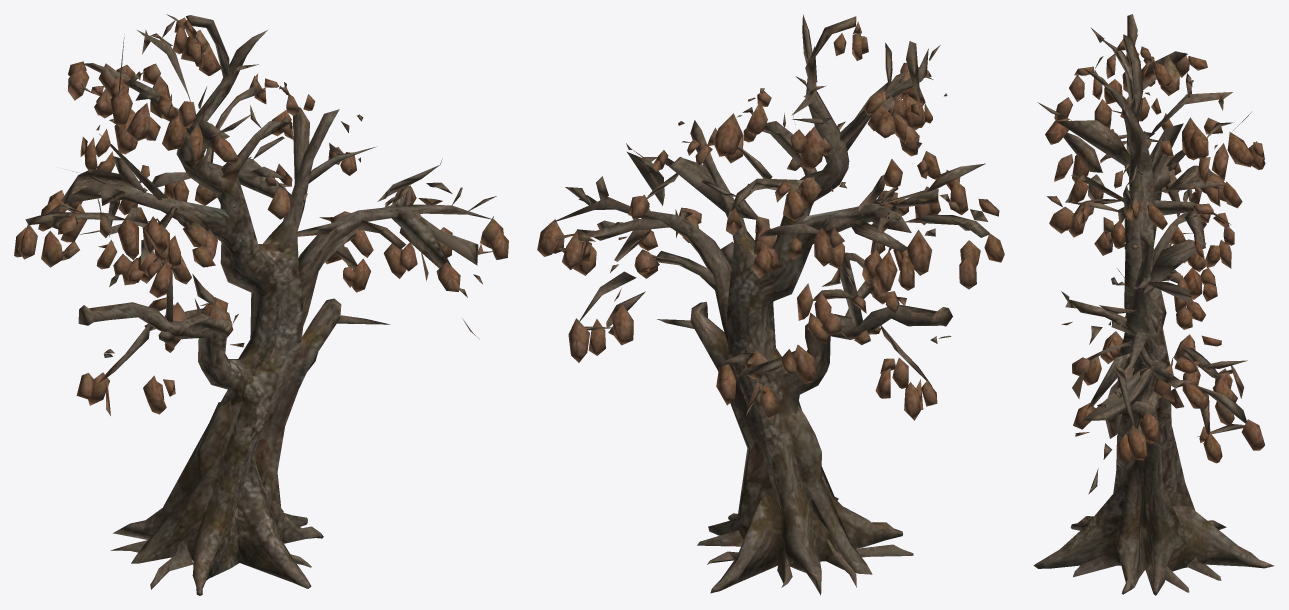
The model's file is h_tree_pine_orange_medium.glb.
3 views of the same model, side by side, from view 1: azimuth 30°, elevation 25°; view 2: azimuth 150°, elevation 25°; view 3: azimuth 270°, elevation 25° (orthographic). The views are drawn at different scales.
Visible parts, largest first — view 1: h_tree_pine_orange_medium; view 2: h_tree_pine_orange_medium; view 3: h_tree_pine_orange_medium.
Boxes of the visible parts, x1,y1,x2,y2 form: h_tree_pine_orange_medium: (14,14,508,595); h_tree_pine_orange_medium: (537,14,1004,595); h_tree_pine_orange_medium: (1033,14,1273,595).
Size of the model in its own units: 5.33 by 5.87 by 2.56.
Materials: 1 (1 with a texture image).
